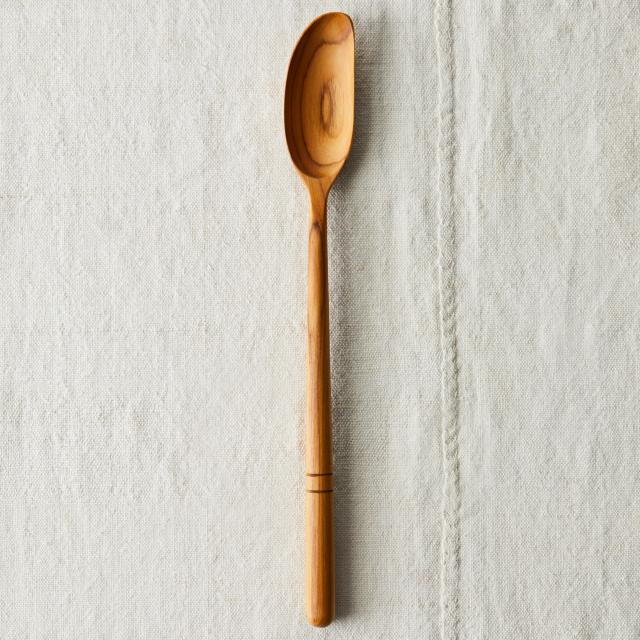spoon: (265, 0, 376, 636)
